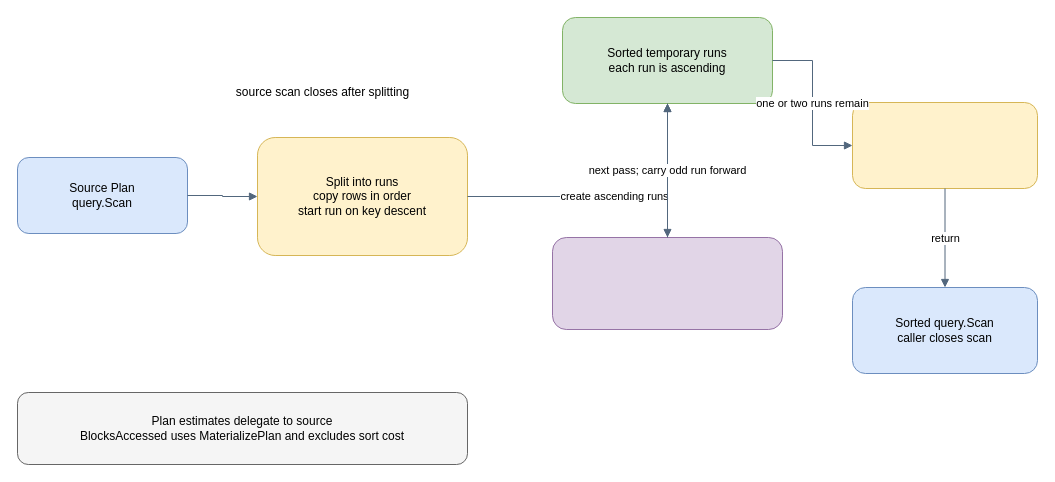
Some shapes in this 1055 by 482 pixel diagram are drawn without their labels. The shapes that lost their labels are listed below. From the top down, each one's centre as x and y in pixels, then its label:
At (x=945, y=145): "Final SortScan one or two runs".
At (x=667, y=283): "Pairwise merge pass SortScan + destination run".
